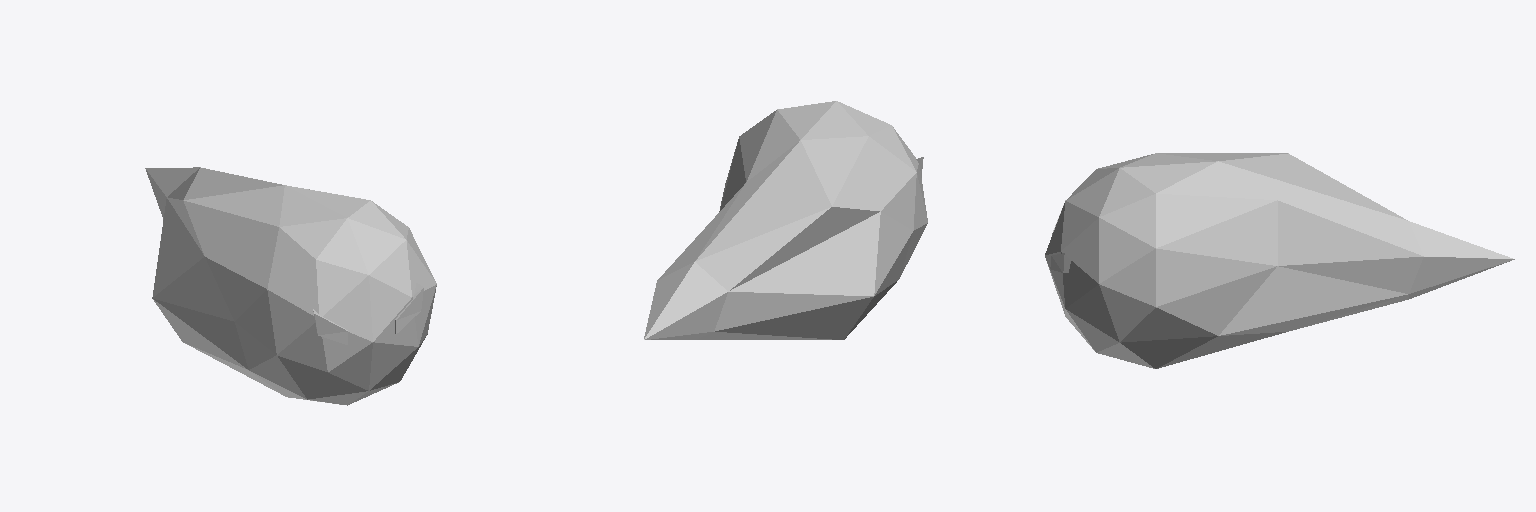
The model's file is eel8.obj.
The picture shows the model from 3 angles: view 1: azimuth 30°, elevation 25°; view 2: azimuth 150°, elevation 25°; view 3: azimuth 270°, elevation 25°; orthographic projection.
Visible parts, largest first — view 1: Icosphere; view 2: Icosphere; view 3: Icosphere.
Boxes of the visible parts, <box> form: Icosphere: <box>145,167,436,405</box>; Icosphere: <box>644,101,927,339</box>; Icosphere: <box>1045,153,1514,368</box>.
Size of the model in its own units: 2.23 by 1.9 by 4.33.